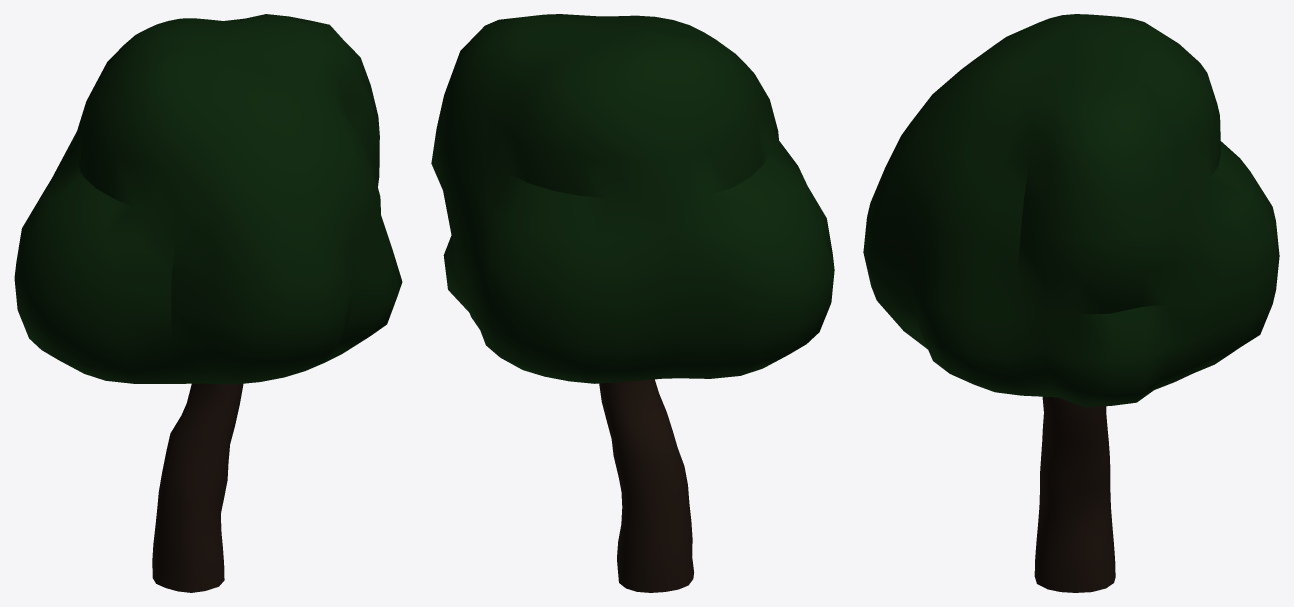
The model's file is oak-1.obj.
3 renders of one model, left to right at view 1: azimuth 30°, elevation 25°; view 2: azimuth 150°, elevation 25°; view 3: azimuth 270°, elevation 25°, orthographic. The views are drawn at different scales.
Visible parts, largest first — view 1: Leaves_Sphere, Trunk_Cylinder; view 2: Leaves_Sphere, Trunk_Cylinder; view 3: Leaves_Sphere, Trunk_Cylinder.
Boxes of the visible parts, left/top/right/bottom form: Leaves_Sphere: left=14, top=14, right=402, bottom=384; Trunk_Cylinder: left=152, top=383, right=243, bottom=592; Leaves_Sphere: left=431, top=14, right=834, bottom=383; Trunk_Cylinder: left=599, top=379, right=694, bottom=592; Leaves_Sphere: left=863, top=14, right=1279, bottom=406; Trunk_Cylinder: left=1034, top=396, right=1115, bottom=592.
Bounding box in the file's own units: 1.94 × 2.78 × 1.89.
